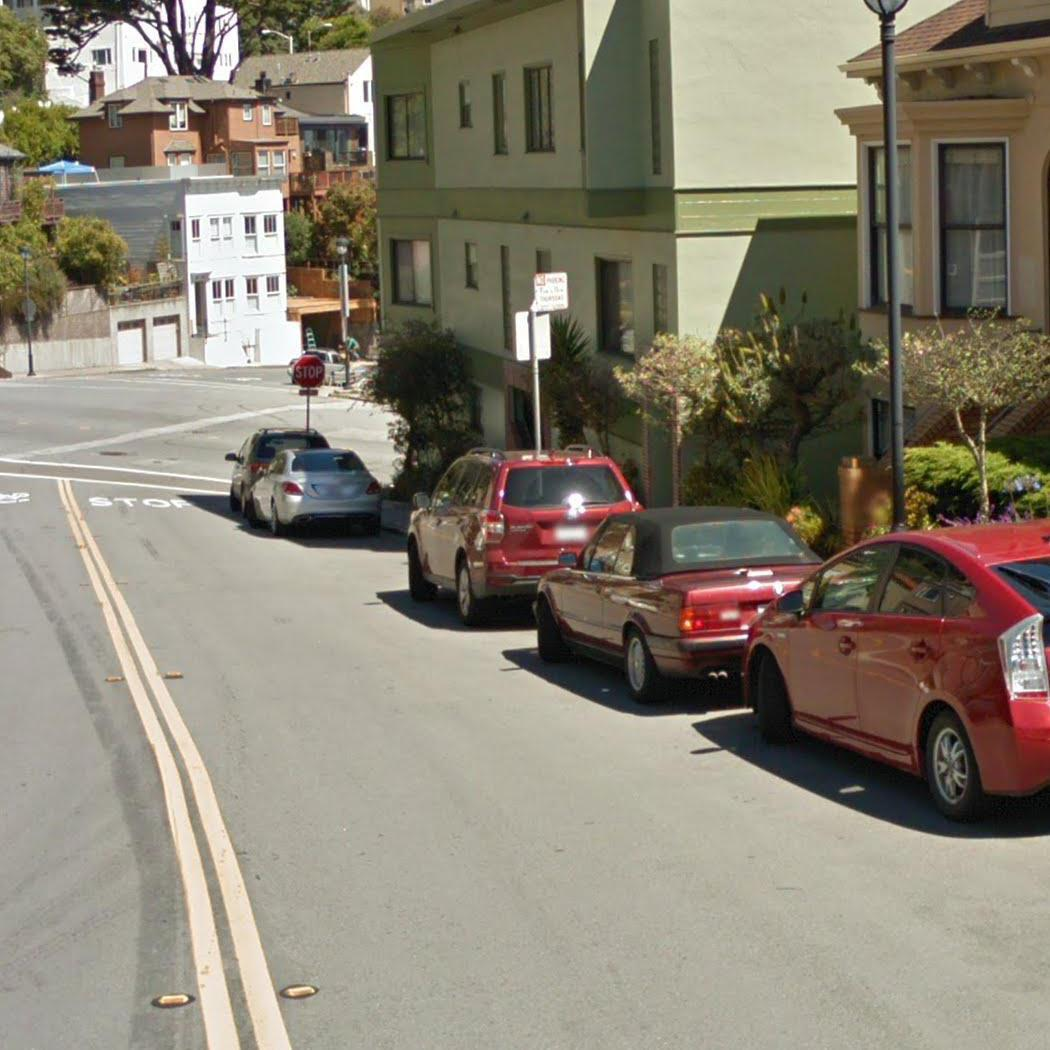No Parking: (530, 268, 573, 315)
